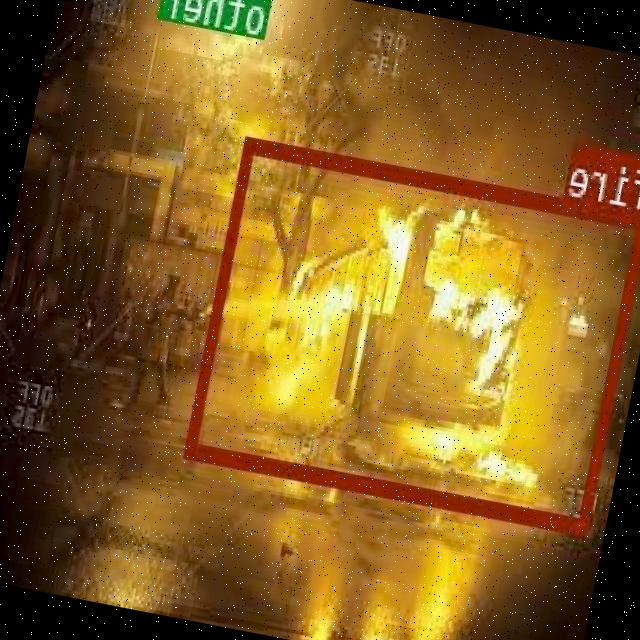fire: (187, 133, 640, 532)
